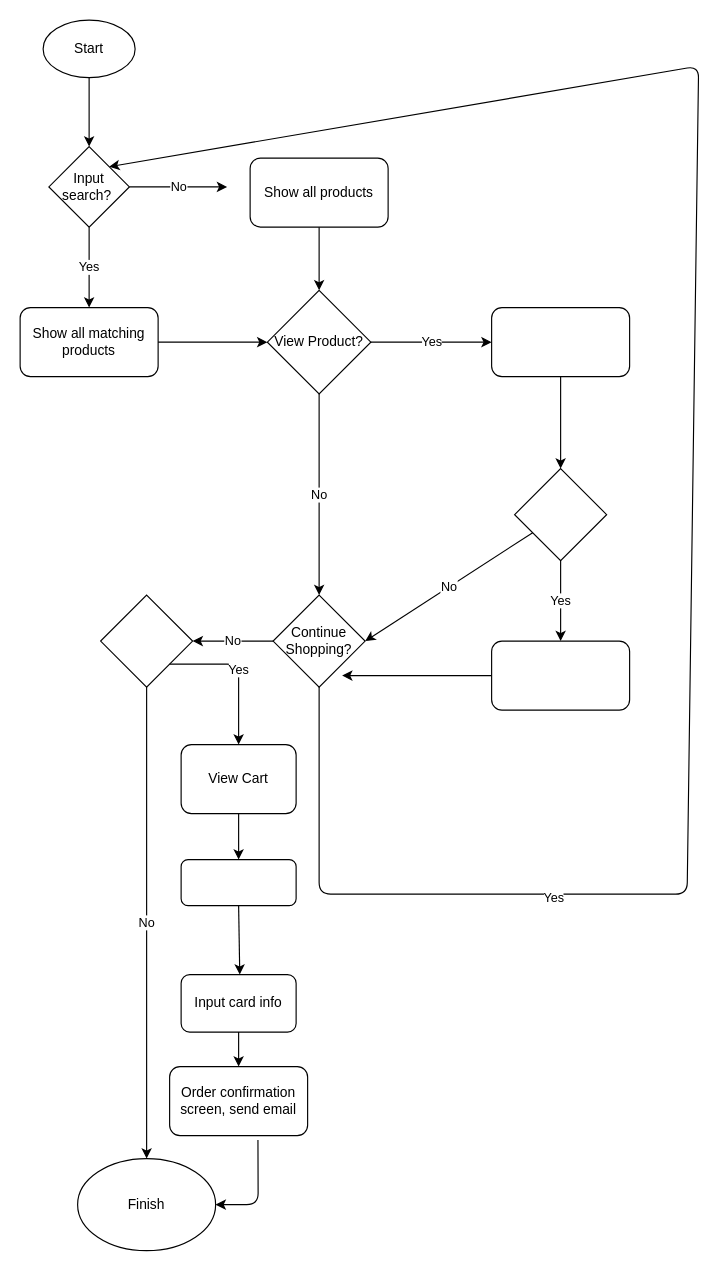
This 728x1271 diagram has some shape labels left out. Here are the shapes that lost their labels. From the top down, the centre of each, then its label:
the point at 560,341: Show product's webpage
the point at 560,514: Add to cart?
the point at 146,640: Checkout?
the point at 560,675: Cart confirmation message, add to cart
the point at 238,882: View Payment
